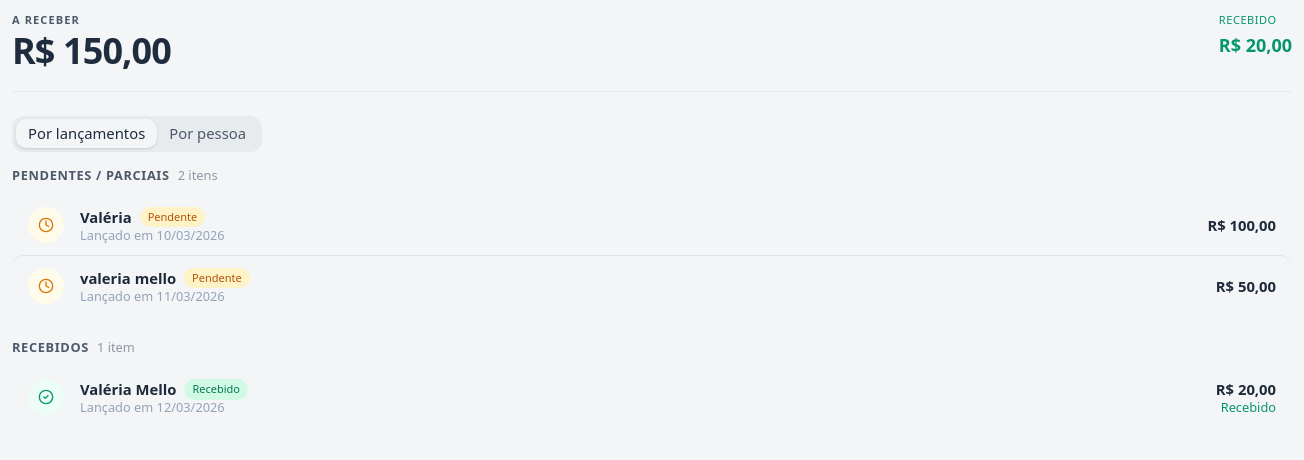
Scenario: ReimbursementsView › supports grouped view by person with aliases and original entries
Expected: the tab "Por lançamentos" is shown, [16,119,157,148]
Click the tab "Por pessoa" at (208, 134), box [157,119,258,148]
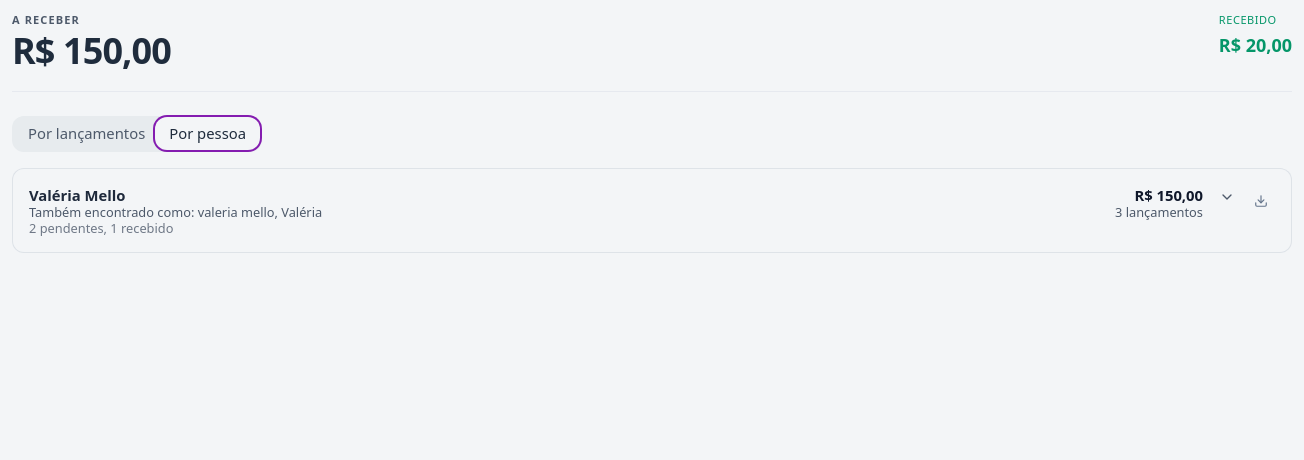
Expected: the text "Também encontrado como: valeria mello, Valéria" is shown, [29,203,322,221]
Expected: the text "2 pendentes, 1 recebido" is shown, [29,218,173,236]
Expected: the text "3 lançamentos" is shown, [1115,205,1203,220]
Click the button "Valéria Mello" at (77, 194), box [29,184,1235,236]
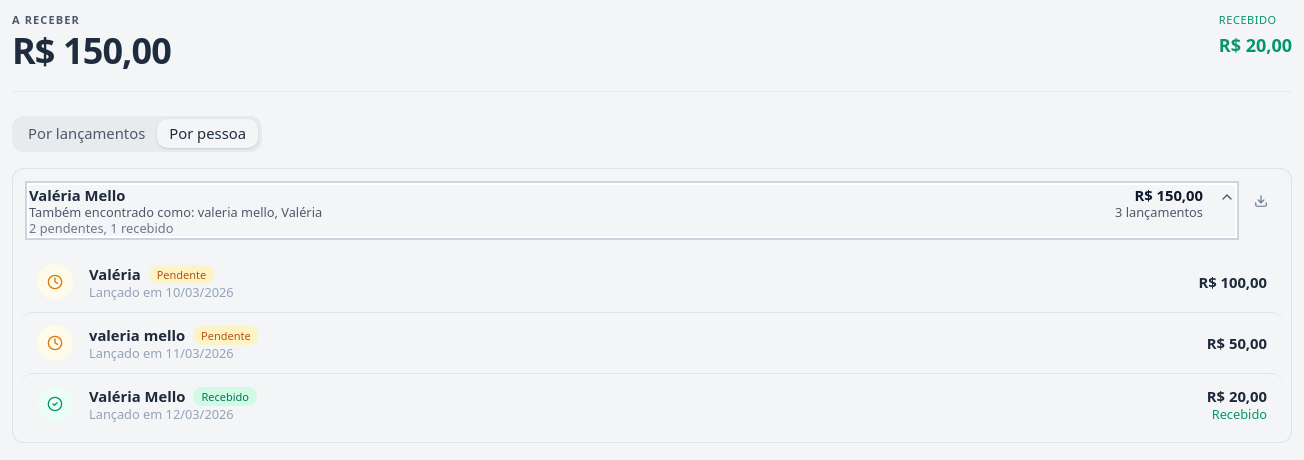
Expected: the text "Valéria" is shown, [89,264,141,285]
Expected: the text "valeria mello" is shown, [89,325,185,346]
